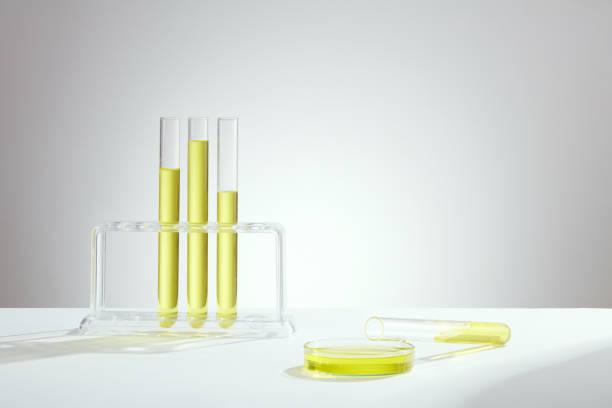Test tube: (142, 81, 173, 322), (210, 101, 237, 333), (186, 108, 205, 323)
